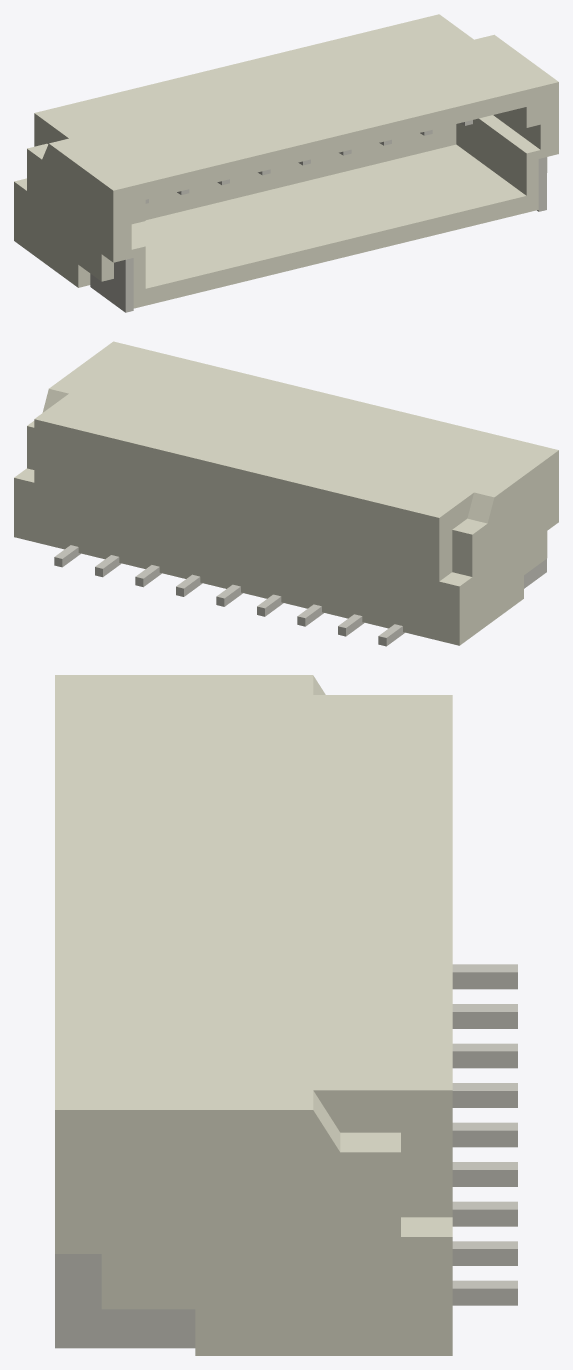
The model's file is kc-jst_sh_sm09b-srss-tb_1x09-1mp_p1.00mm_horizontal.glb.
3 renders of one model, top to bottom at view 1: azimuth 30°, elevation 25°; view 2: azimuth 150°, elevation 25°; view 3: azimuth 270°, elevation 25°, orthographic. The views are drawn at different scales.
Parts seen in each view (by area): view 1: 0.75_0.75_0.6666666666666666_0, 0.6666666666666666_0.6666666666666666_0.5833333333333334_0.8; view 2: 0.75_0.75_0.6666666666666666_0, 0.6666666666666666_0.6666666666666666_0.5833333333333334_0.8; view 3: 0.75_0.75_0.6666666666666666_0, 0.6666666666666666_0.6666666666666666_0.5833333333333334_0.8.
Part boxes in pixels (<box>): 0.75_0.75_0.6666666666666666_0: <box>14,14,558,308</box>; 0.6666666666666666_0.6666666666666666_0.5833333333333334_0.8: <box>90,120,546,312</box>; 0.75_0.75_0.6666666666666666_0: <box>14,341,558,645</box>; 0.6666666666666666_0.6666666666666666_0.5833333333333334_0.8: <box>54,545,546,646</box>; 0.75_0.75_0.6666666666666666_0: <box>55,675,452,1355</box>; 0.6666666666666666_0.6666666666666666_0.5833333333333334_0.8: <box>55,964,517,1348</box>.
Size of the model in its own units: 1.1 by 0.2959 by 0.495.
